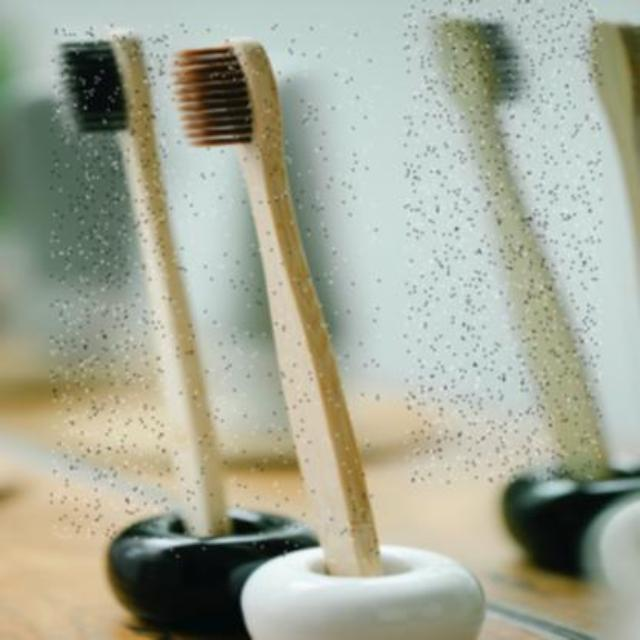toothbrush: (168, 25, 380, 561), (50, 26, 240, 538), (405, 1, 601, 483)
